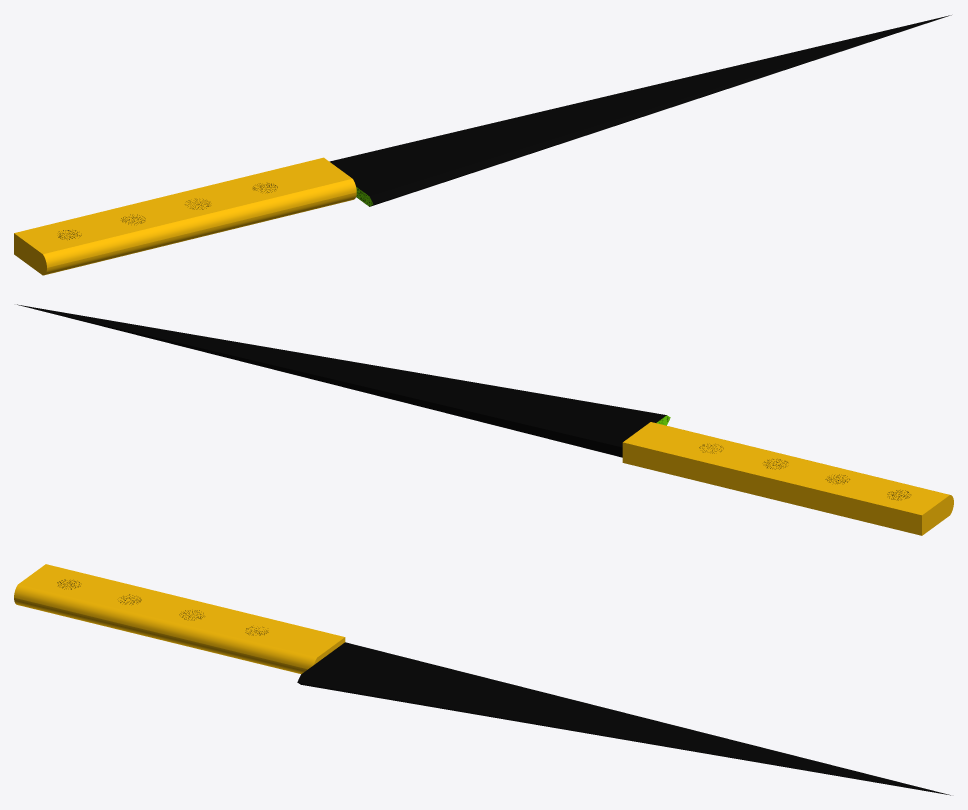
Rendered from knife_08_origin_gt_1.dae.
3 views of the same model, one above another, from view 1: azimuth 30°, elevation 25°; view 2: azimuth 150°, elevation 25°; view 3: azimuth 330°, elevation 25° (orthographic). The views are drawn at different scales.
Parts seen in each view (by area): view 1: Kitchen_Knife (×2); view 2: Kitchen_Knife (×2); view 3: Kitchen_Knife (×2).
Boxes of the visible parts, box(x1,y1,x2,y2) form: Kitchen_Knife (×2): box(14, 15, 951, 275); Kitchen_Knife (×2): box(17, 304, 953, 535); Kitchen_Knife (×2): box(14, 564, 950, 795).
Size of the model in its own units: 12 by 1.1 by 0.2592.
